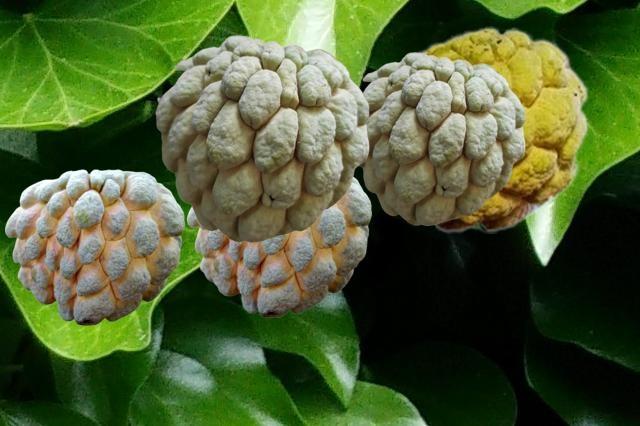atis: (358, 26, 588, 232), (155, 35, 368, 241), (359, 52, 524, 224), (5, 169, 183, 324), (187, 177, 370, 316)
